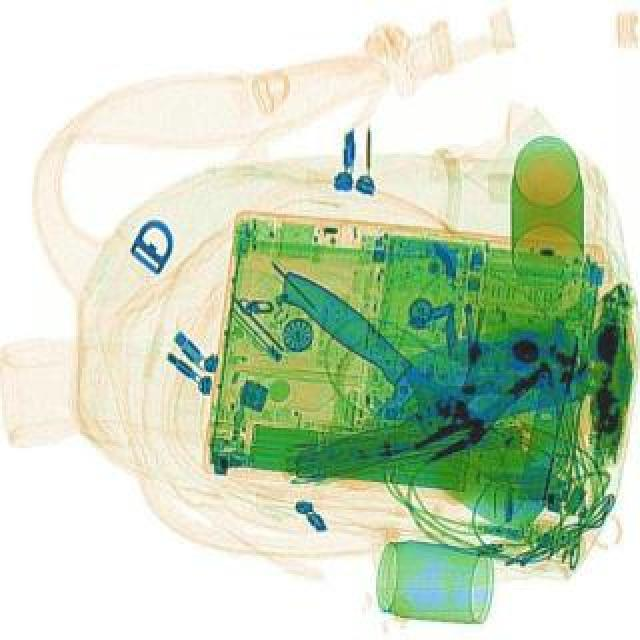knife: (238, 258, 570, 546), (268, 310, 592, 486)
